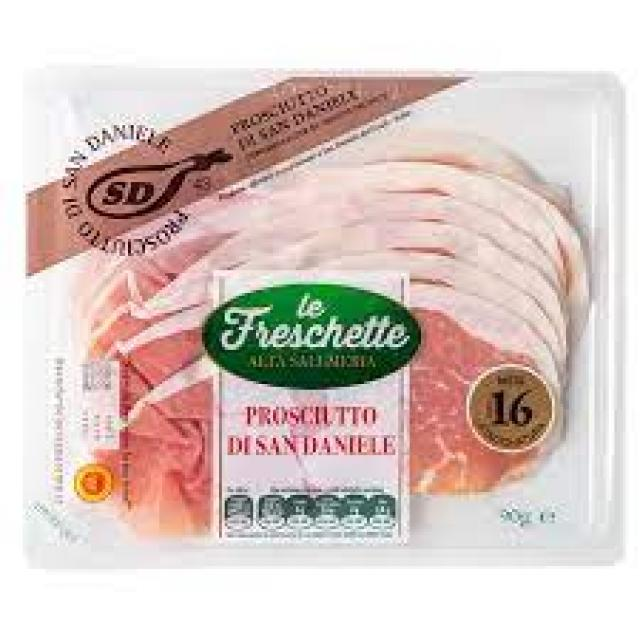Ham: (18, 59, 623, 561)
